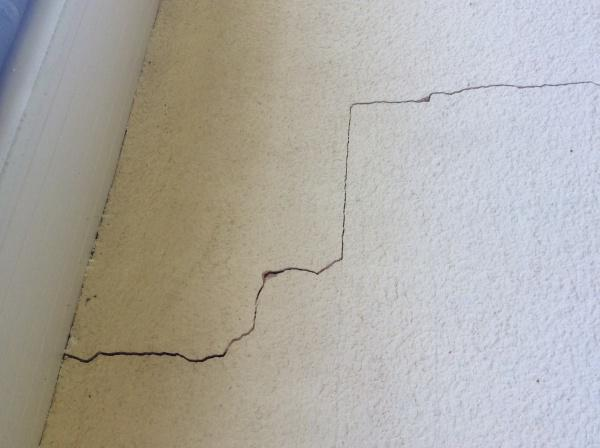crack: (63, 81, 600, 364)
